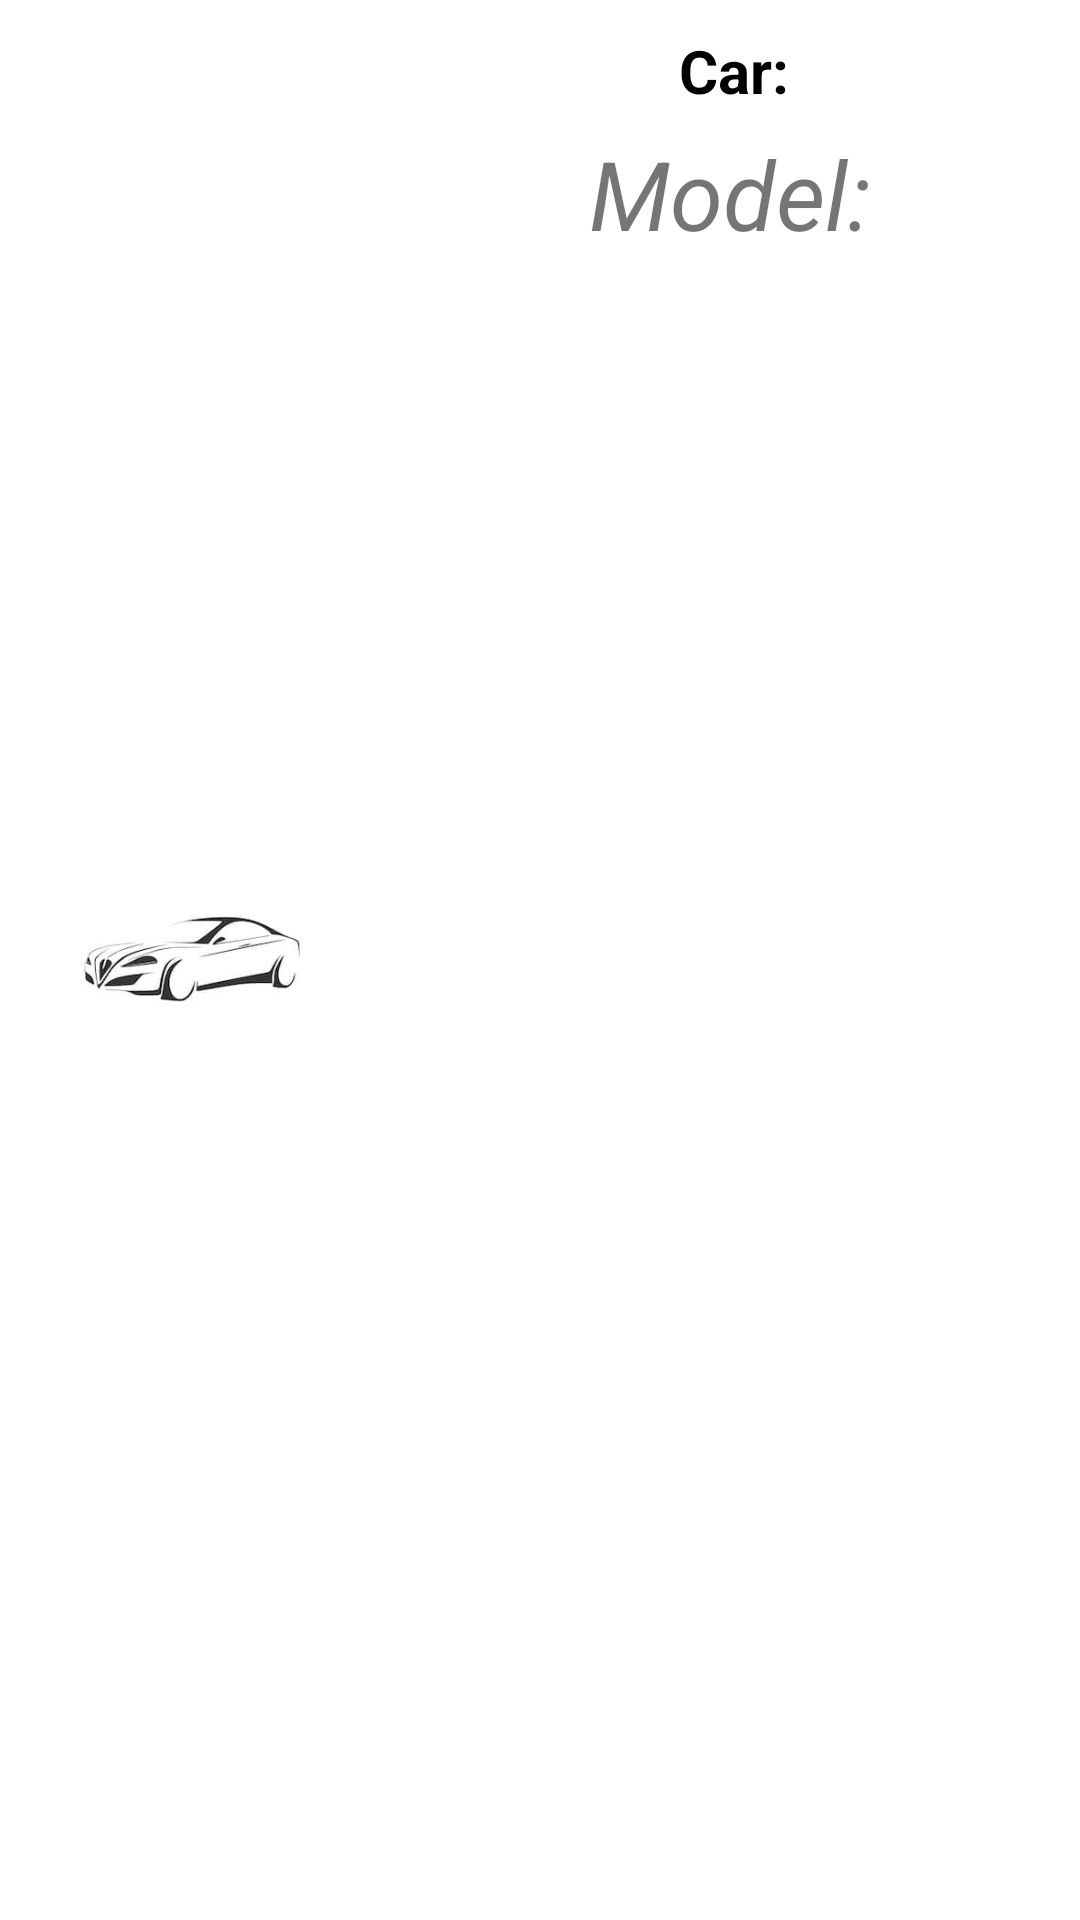

Icon click points for this 1080 x 1920 phone screenshot, format point (x, y):
car: point (192, 959)
